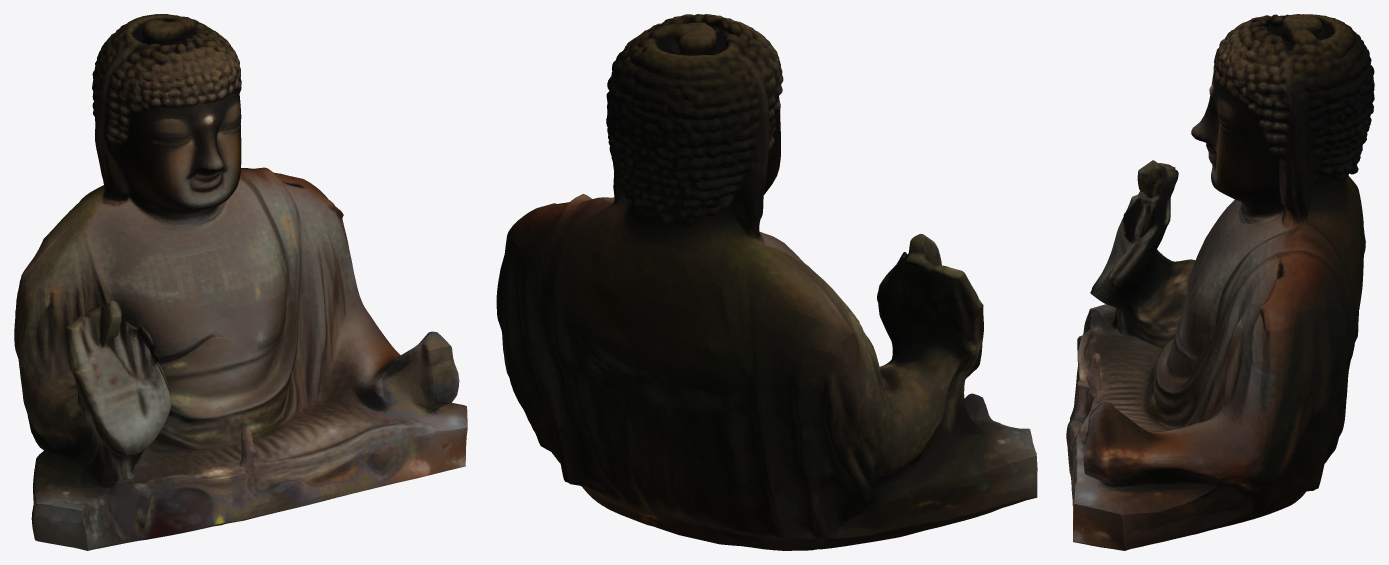
File: mahayana-trellis.glb
3 views of the same model, side by side, from view 1: azimuth 30°, elevation 25°; view 2: azimuth 150°, elevation 25°; view 3: azimuth 270°, elevation 25° (orthographic). The views are drawn at different scales.
Visible parts, largest first — view 1: world; view 2: world; view 3: world.
Part boxes in pixels (x1=…): world: x1=14, y1=14, x2=467, y2=550; world: x1=496, y1=14, x2=1037, y2=550; world: x1=1066, y1=14, x2=1374, y2=550.
Bounding box in the file's own units: 0.9999 × 0.9545 × 0.6038.
Materials: 1 (1 with a texture image).
